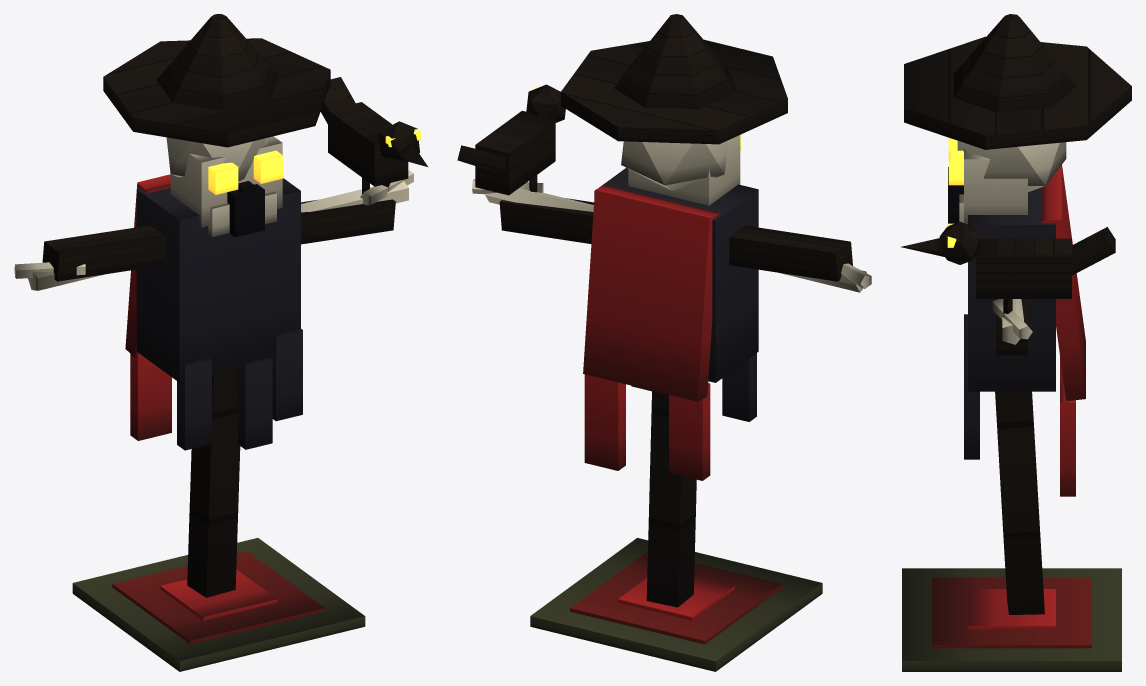
Rendered from dark_scarecrow.glb.
3 renders of one model, left to right at view 1: azimuth 30°, elevation 25°; view 2: azimuth 150°, elevation 25°; view 3: azimuth 270°, elevation 25°, orthographic. The views are drawn at different scales.
Visible parts, largest first — view 1: dark_scarecrow; view 2: dark_scarecrow; view 3: dark_scarecrow.
Part boxes in pixels (x1,y1,x2,y2): dark_scarecrow: (14,14,427,671); dark_scarecrow: (457,14,871,671); dark_scarecrow: (901,14,1131,671).
Bounding box in the file's own units: 1.18 × 1.71 × 0.58.
Materials: 1 (1 with a texture image).
